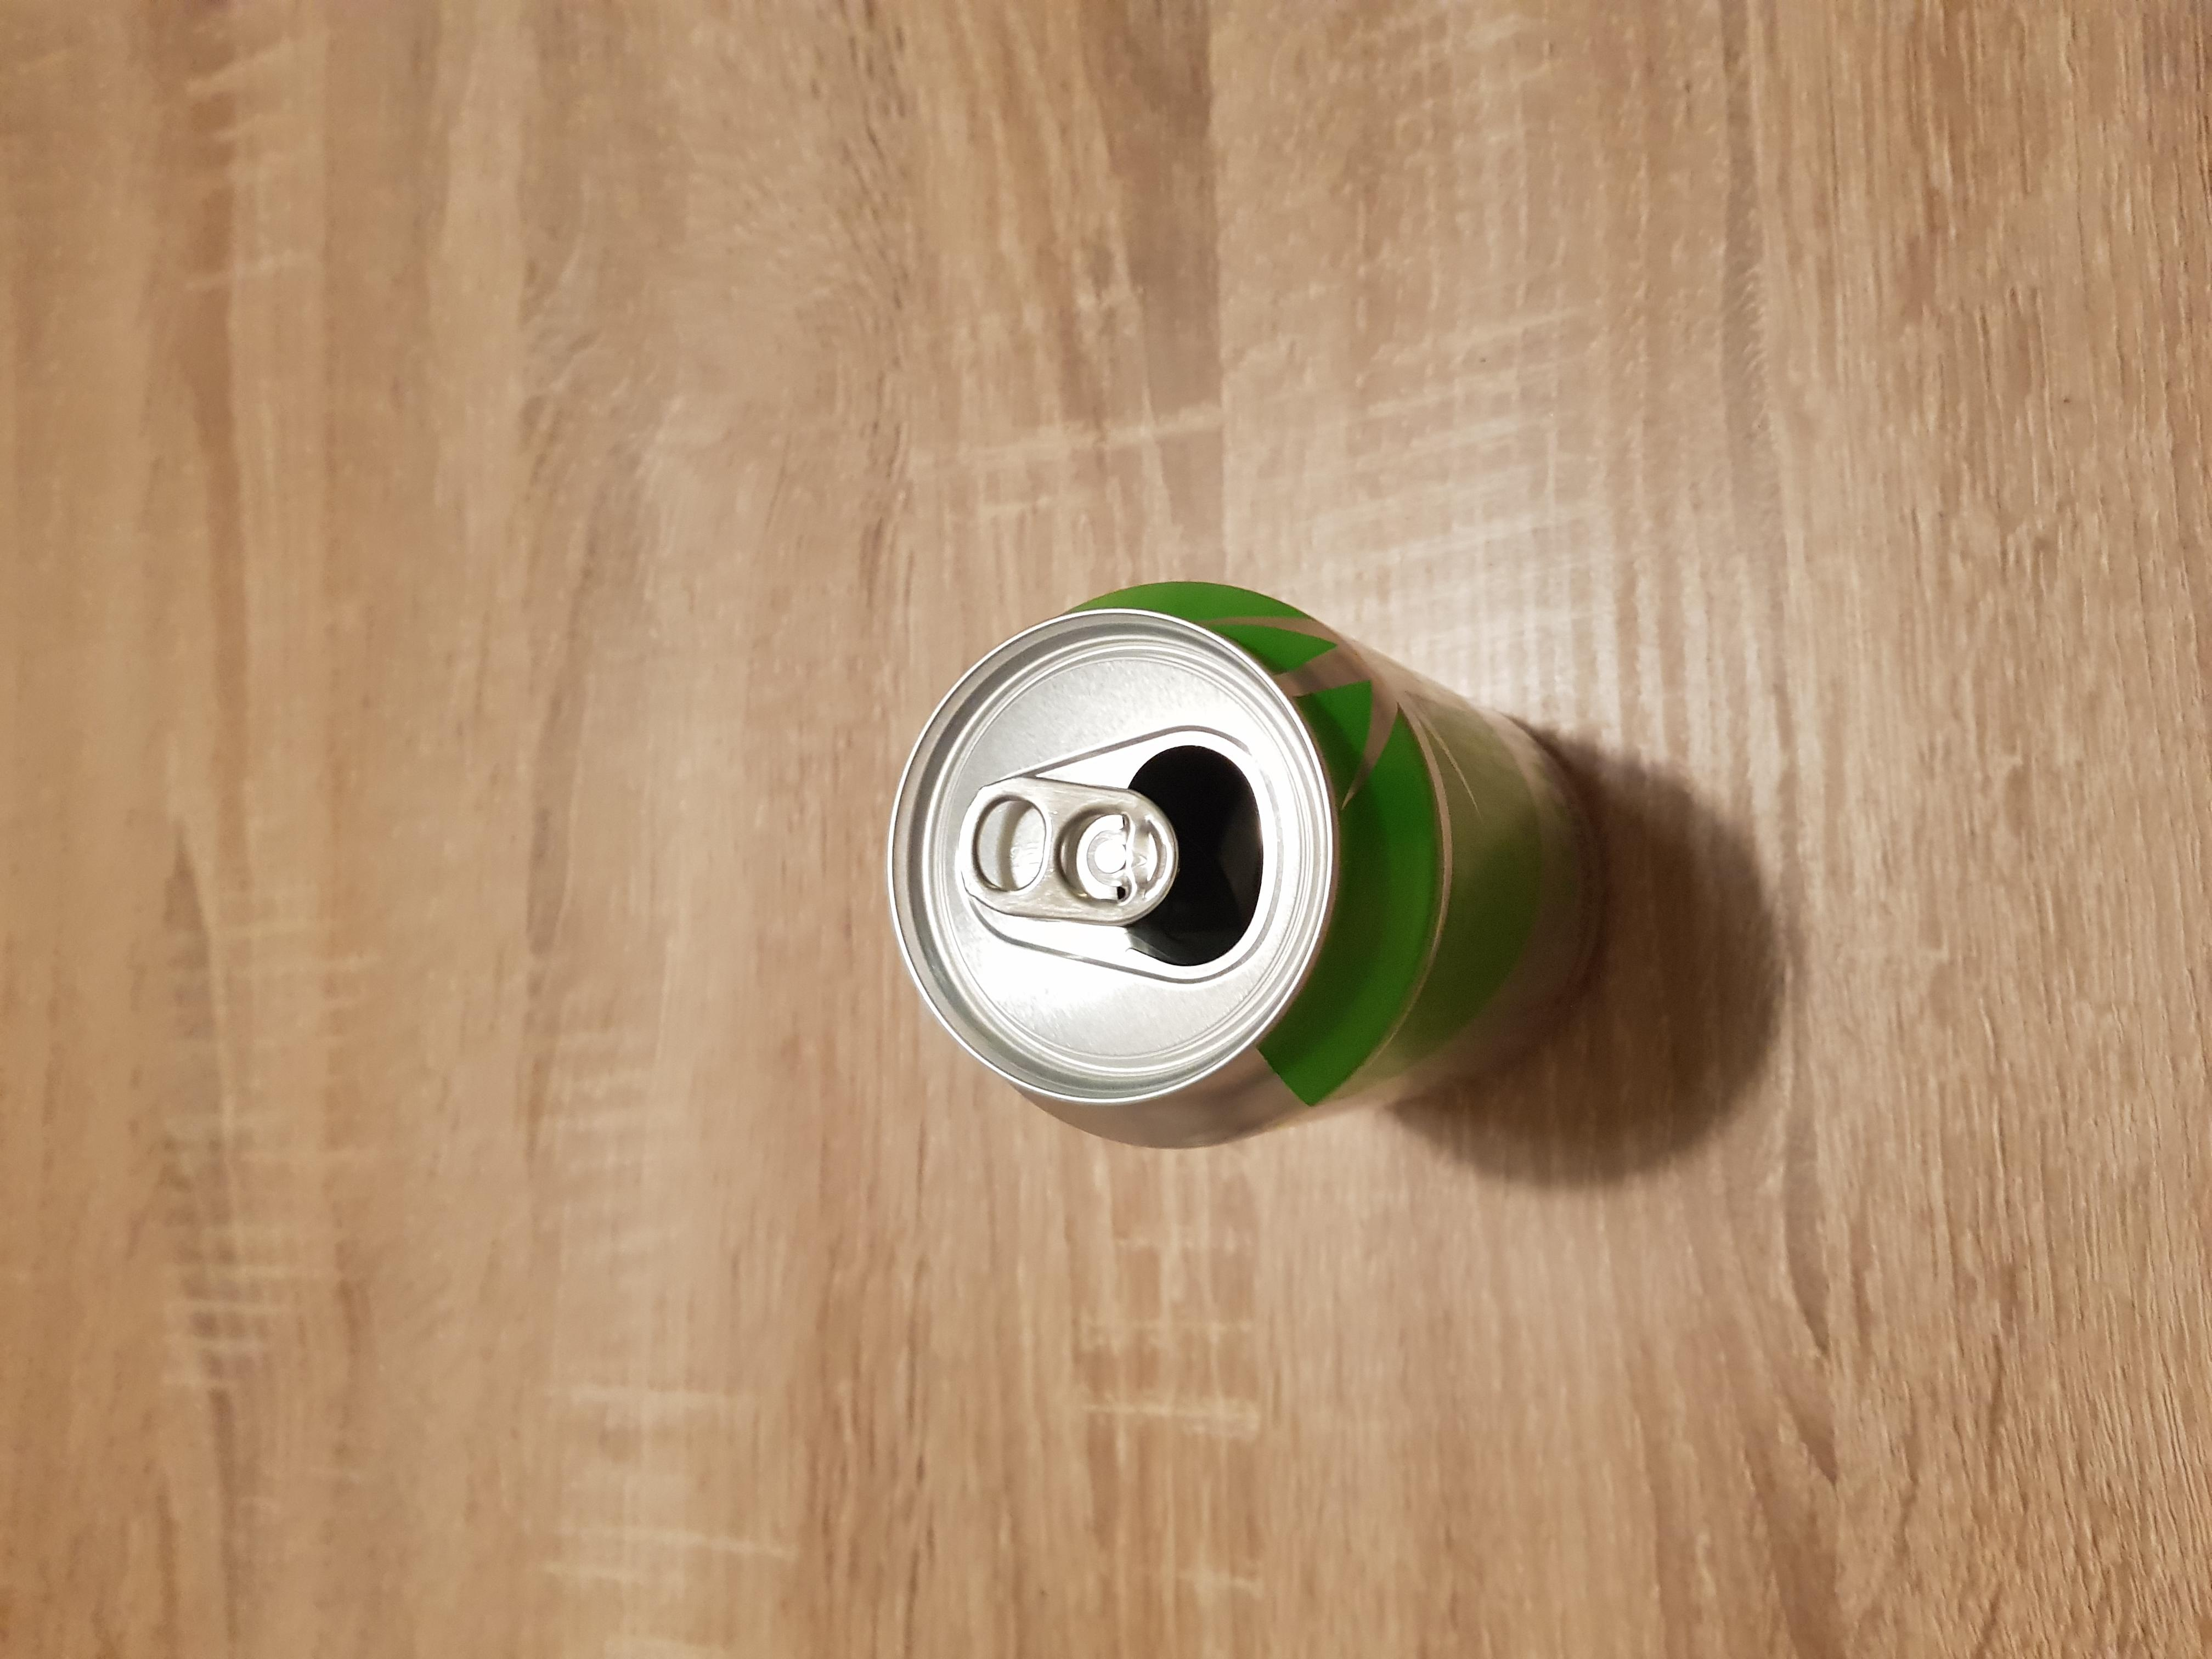Can: (885, 580, 1588, 1155)
